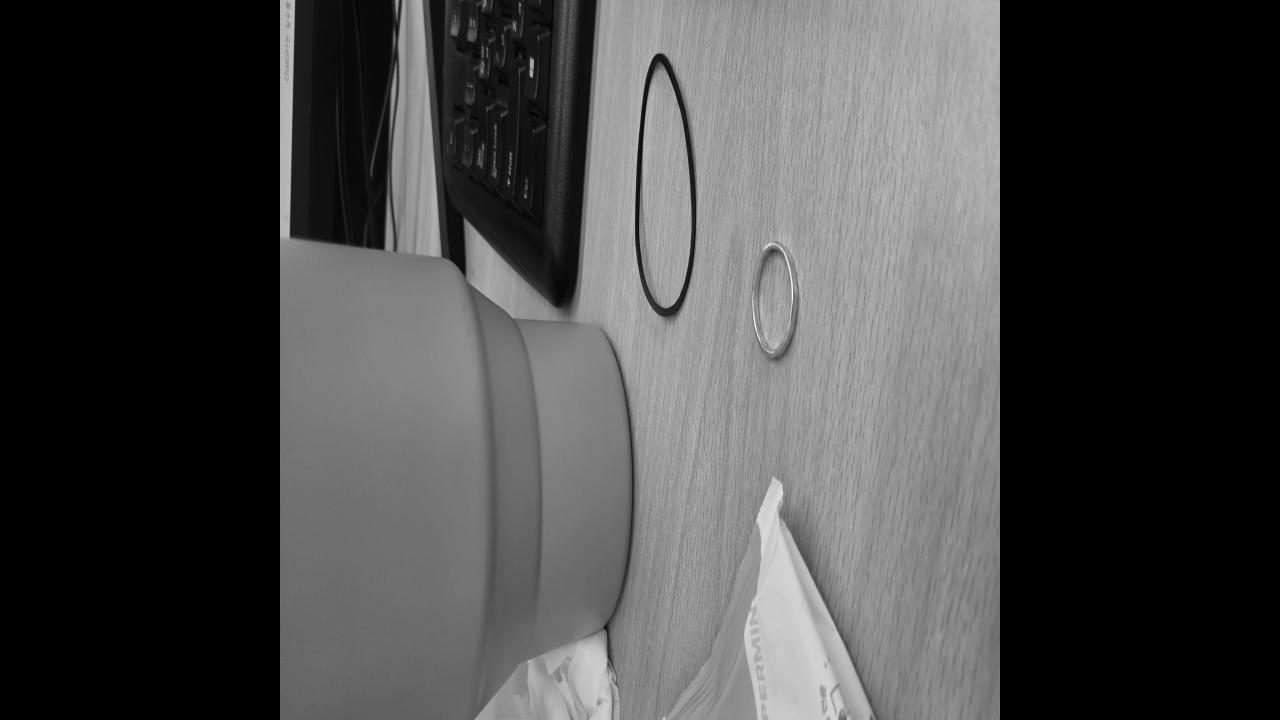ring: (750, 234, 800, 364)
